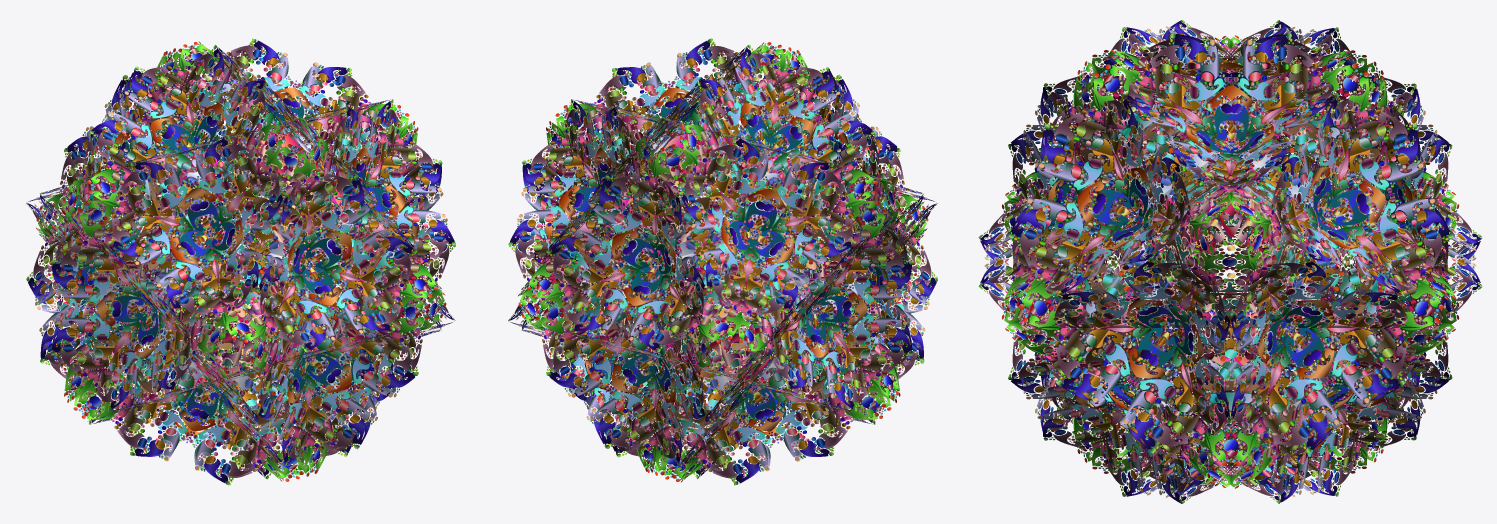
Rendered from GreatDodecahedron12.obj.
The picture shows the model from 3 angles, left to right: view 1: azimuth 30°, elevation 25°; view 2: azimuth 150°, elevation 25°; view 3: azimuth 270°, elevation 25°; orthographic projection. The views are drawn at different scales.
Size of the model in its own units: 1.62 by 1.62 by 1.62.
1 material, 1 textured.
